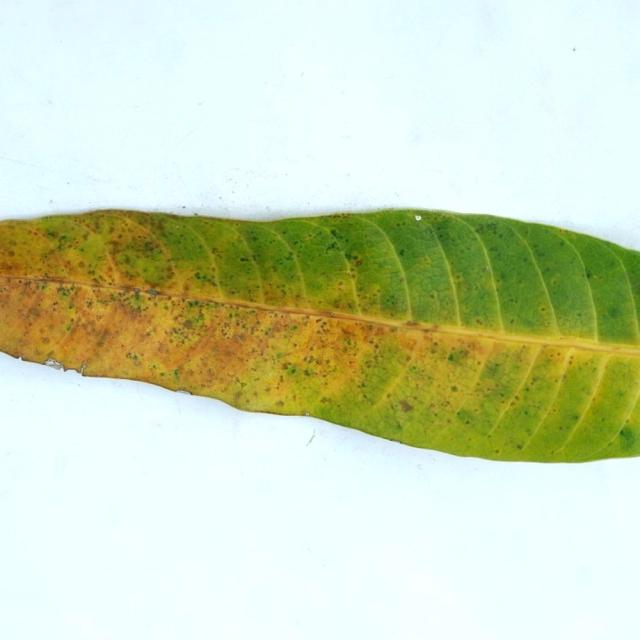Mango: (0, 210, 639, 462)
Powdery_Mildew: (337, 321, 380, 346), (628, 263, 640, 328), (21, 298, 49, 324), (310, 320, 335, 340), (125, 292, 149, 312), (52, 234, 76, 253), (456, 408, 477, 427), (619, 425, 636, 445), (325, 238, 345, 254), (193, 271, 213, 286), (142, 240, 158, 254), (303, 353, 320, 365), (399, 399, 414, 412), (329, 212, 353, 220), (95, 333, 108, 347), (126, 351, 140, 363), (608, 306, 621, 318), (58, 287, 72, 298), (285, 364, 298, 375), (182, 319, 195, 330), (316, 320, 329, 331), (45, 229, 59, 239), (330, 229, 342, 240), (342, 337, 354, 348), (233, 390, 244, 402), (345, 252, 357, 262), (404, 320, 421, 327), (236, 332, 247, 342), (57, 234, 68, 243), (474, 225, 485, 234), (3, 249, 15, 257), (418, 214, 430, 222), (132, 289, 141, 299), (353, 258, 363, 267), (281, 362, 292, 370), (146, 289, 160, 295), (15, 277, 27, 284), (64, 322, 73, 331), (446, 354, 456, 362), (320, 397, 331, 404), (303, 369, 312, 377), (67, 300, 75, 309), (85, 299, 93, 308), (390, 438, 402, 444), (173, 368, 180, 378), (41, 337, 50, 344), (413, 214, 422, 221), (239, 257, 249, 263), (450, 385, 458, 392), (239, 381, 247, 388), (626, 417, 633, 425), (275, 400, 284, 406), (326, 311, 335, 317), (593, 275, 603, 280), (573, 413, 580, 420), (315, 317, 323, 323), (399, 249, 405, 256), (586, 272, 592, 278), (429, 293, 435, 299), (482, 265, 488, 271), (338, 281, 344, 287), (549, 449, 555, 455), (516, 444, 523, 449), (540, 307, 546, 312), (509, 318, 514, 324), (557, 228, 563, 233), (577, 312, 582, 317), (447, 418, 452, 423), (304, 412, 310, 416), (494, 449, 499, 453), (175, 226, 180, 229)
